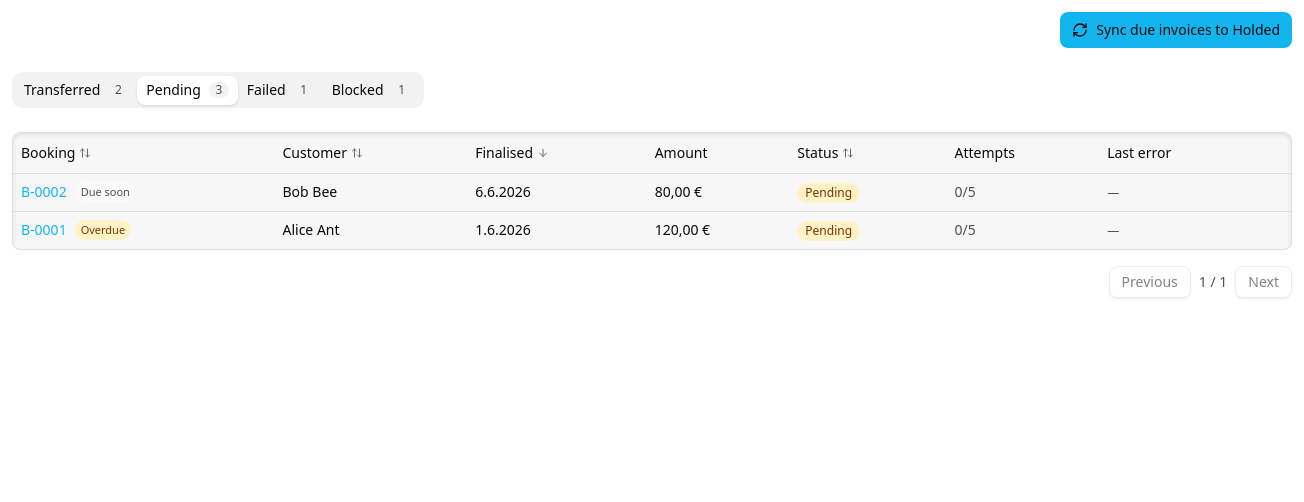
Test: Invoicing route › shows the holded_not_connected disabled state with a Connect link
Click the button with test id "invoicing-sync-button".
click(1176, 30)  # box 1060,12 -> 1292,48
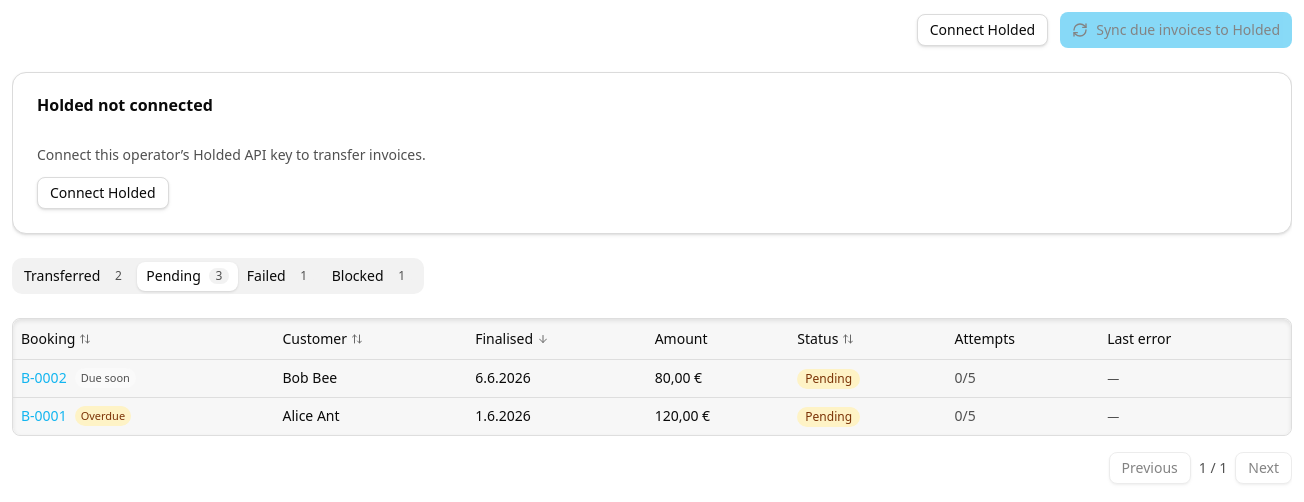
Result: the button with test id "invoicing-sync-button" is disabled at 1060,12 -> 1292,48
Result: the element with test id "invoicing-not-connected" is shown at 12,72 -> 1292,234
